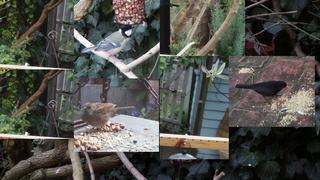blackbird: (235, 80, 291, 106)
dunnock: (81, 102, 135, 133)
great tit: (80, 24, 136, 65)
